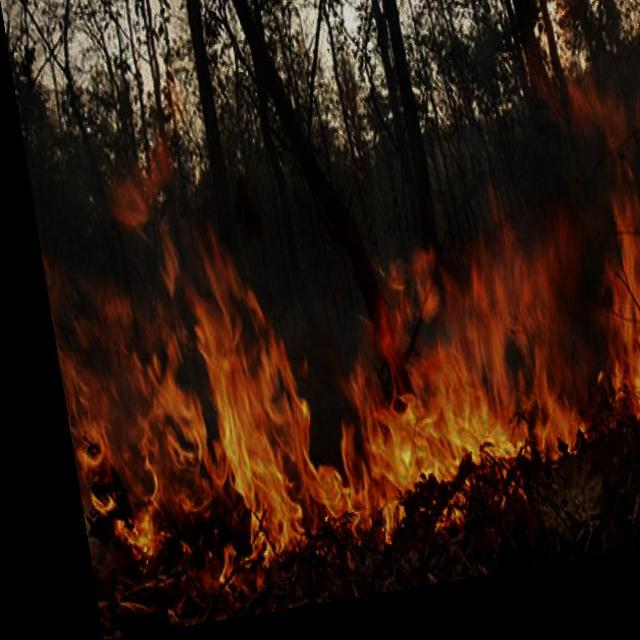Fire: (33, 71, 639, 587)
